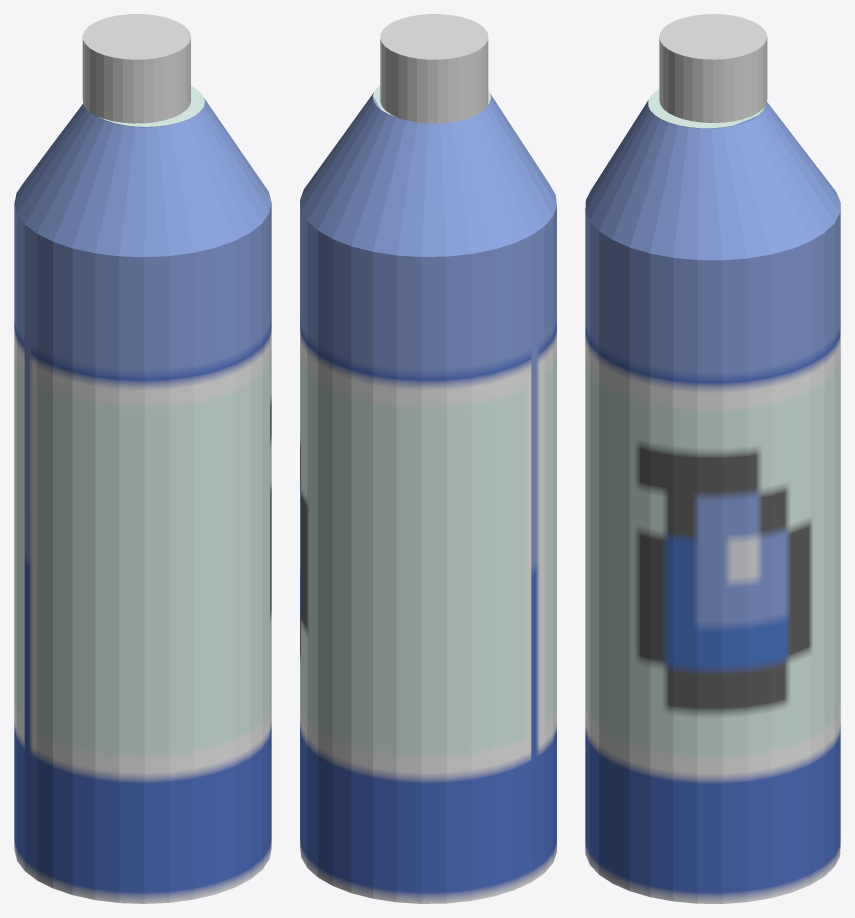
The model's file is Water.fbx.
The picture shows the model from 3 angles, left to right: view 1: azimuth 30°, elevation 25°; view 2: azimuth 150°, elevation 25°; view 3: azimuth 270°, elevation 25°; orthographic projection.
Parts seen in each view (by area): view 1: Water, Cylinder; view 2: Water, Cylinder; view 3: Water, Cylinder.
Part boxes in pixels (box(x1,y1,x2,y2)): Water: box(14, 86, 271, 903); Cylinder: box(82, 14, 190, 123); Water: box(300, 85, 556, 903); Cylinder: box(380, 14, 488, 123); Water: box(585, 89, 840, 903); Cylinder: box(659, 14, 767, 122).
Size of the model in its own units: 46.58 by 163 by 46.58.
Materials: 1 (1 with a texture image).
